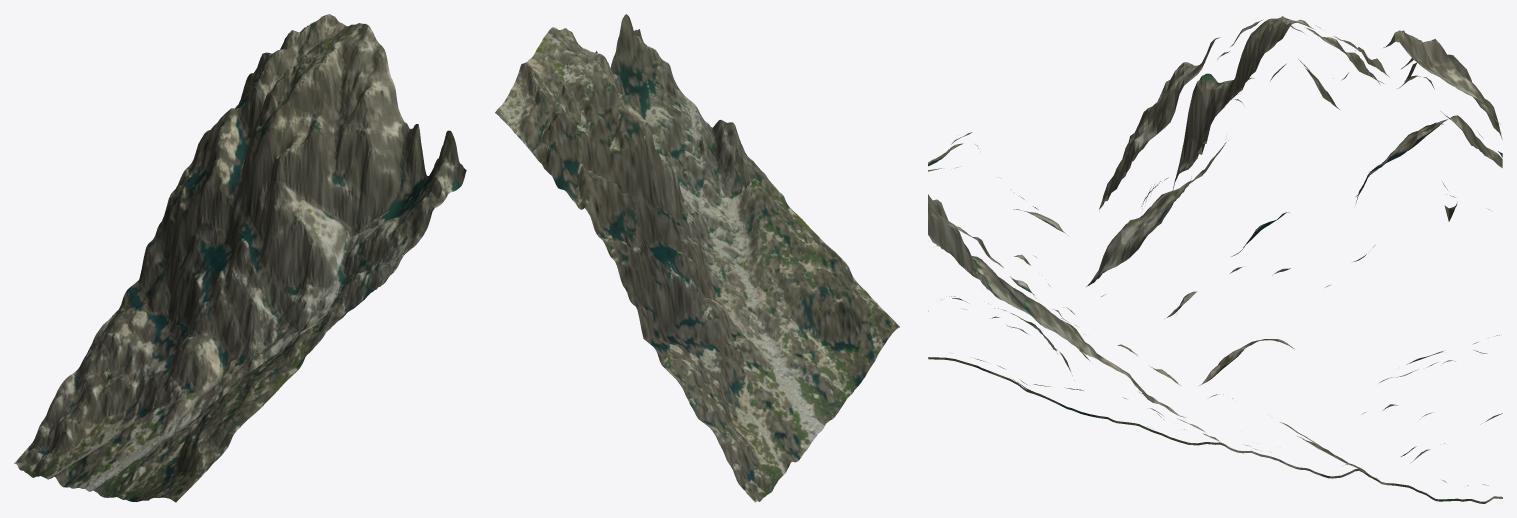
The picture shows the model from 3 angles, left to right: view 1: azimuth 30°, elevation 25°; view 2: azimuth 150°, elevation 25°; view 3: azimuth 270°, elevation 25°; orthographic projection. The views are drawn at different scales.
Size of the model in its own units: 250 by 343 by 241.
1 material, 1 textured.
